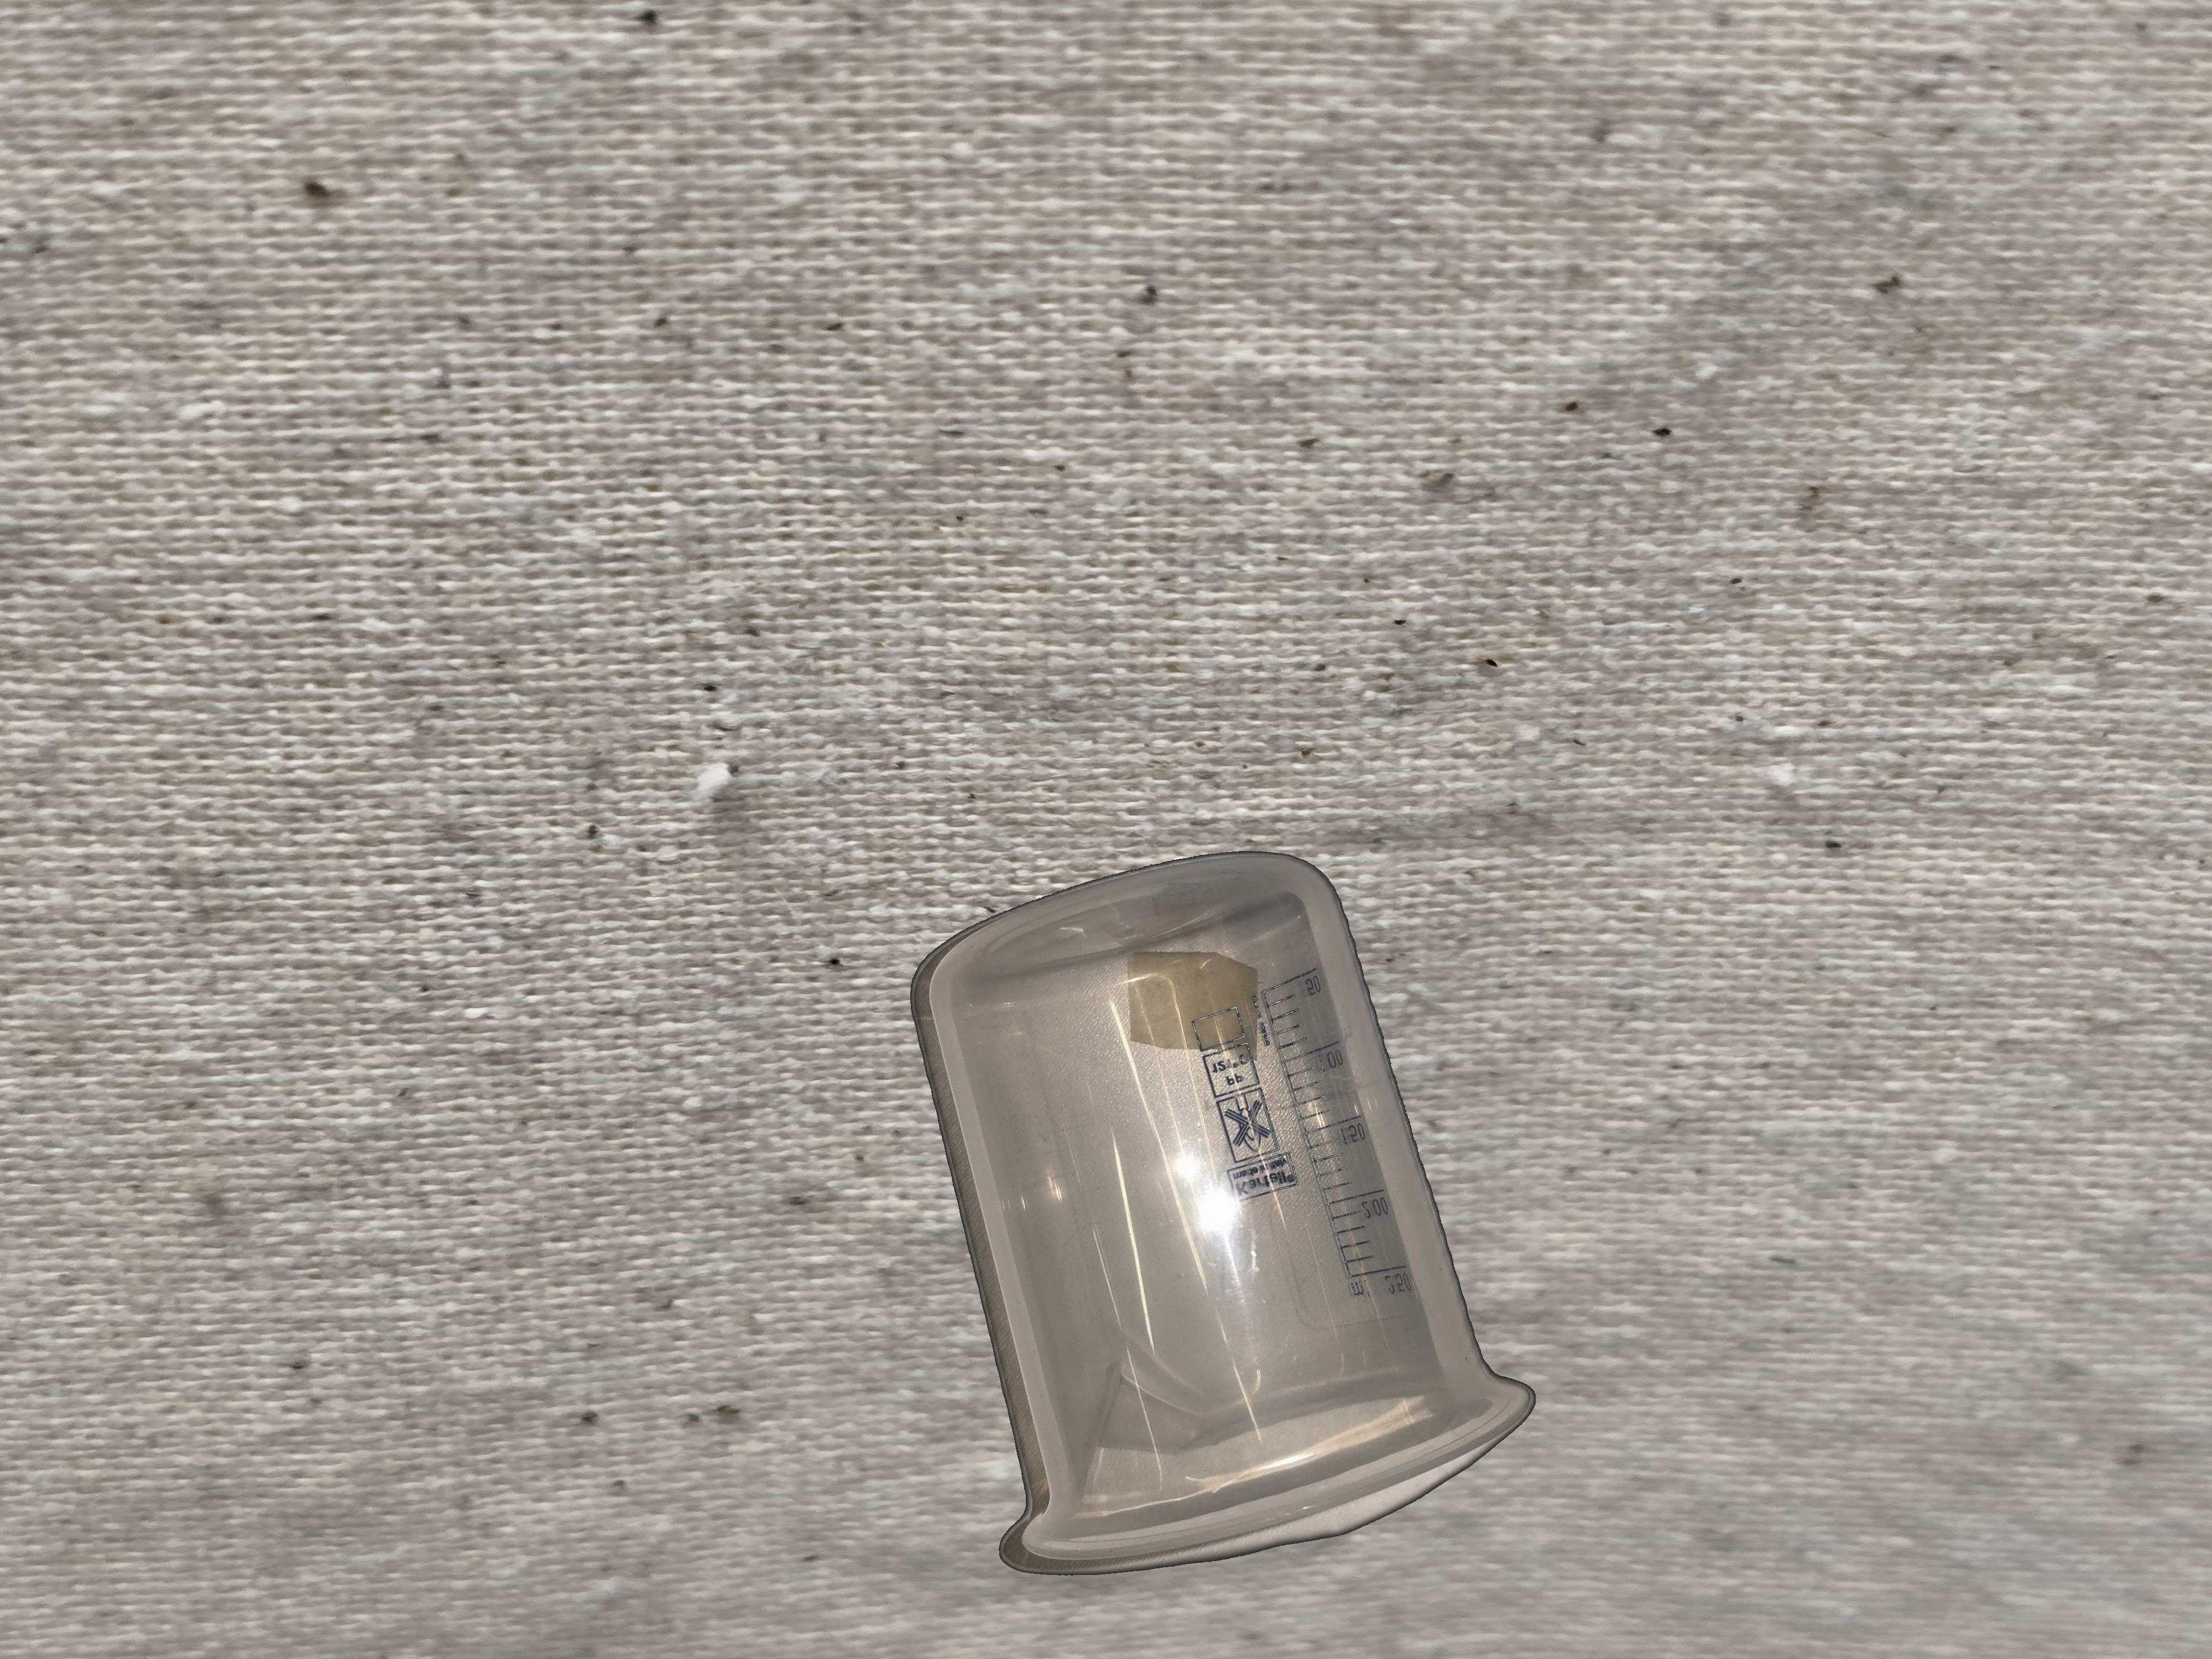becker: (906, 850, 1536, 1581)
